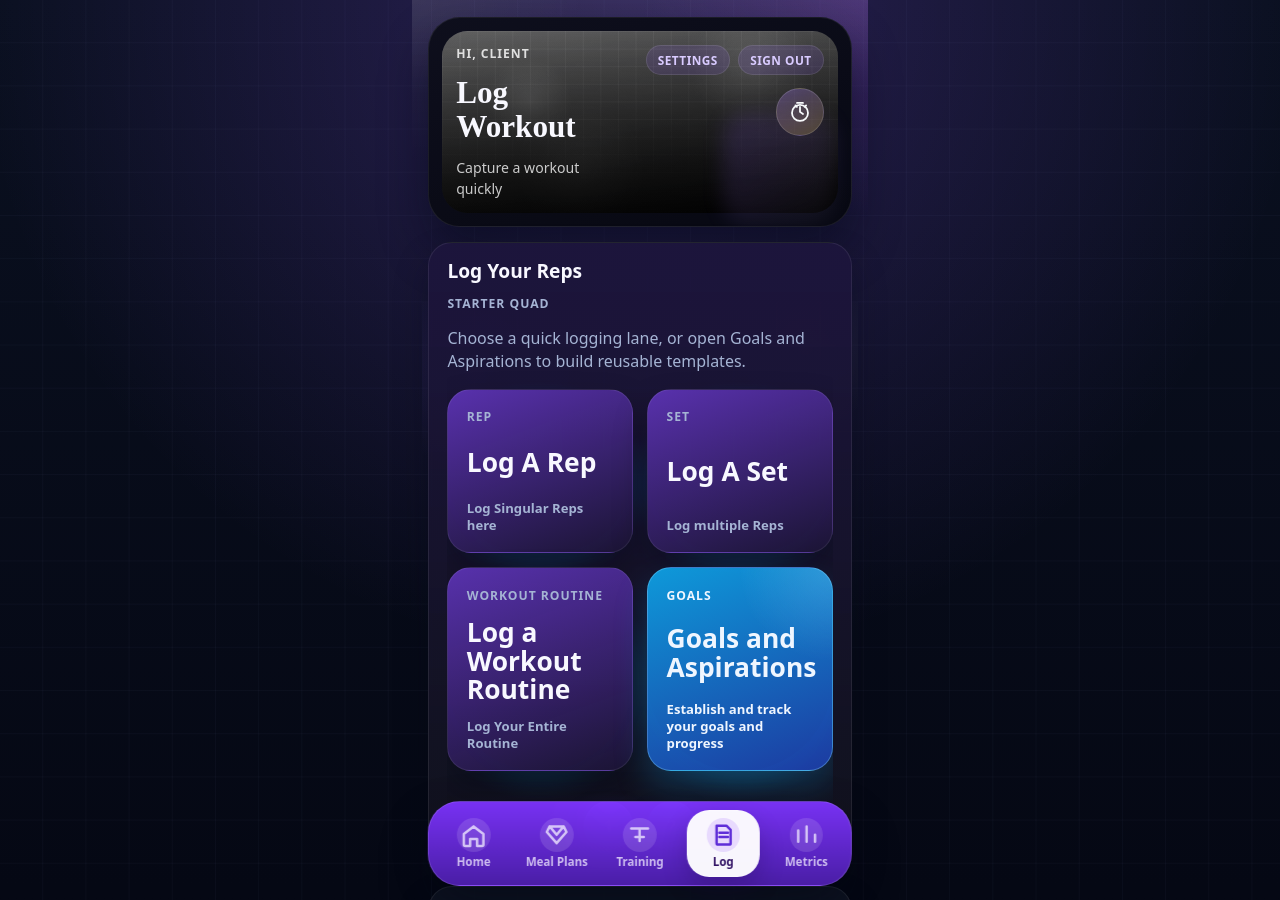
AddLogPage mobile experience › closes the active timer session without posting when cancelled or dismissed with Escape
Click the button named "Open workout timer": point(800, 112) left=776, top=88, right=824, bottom=136
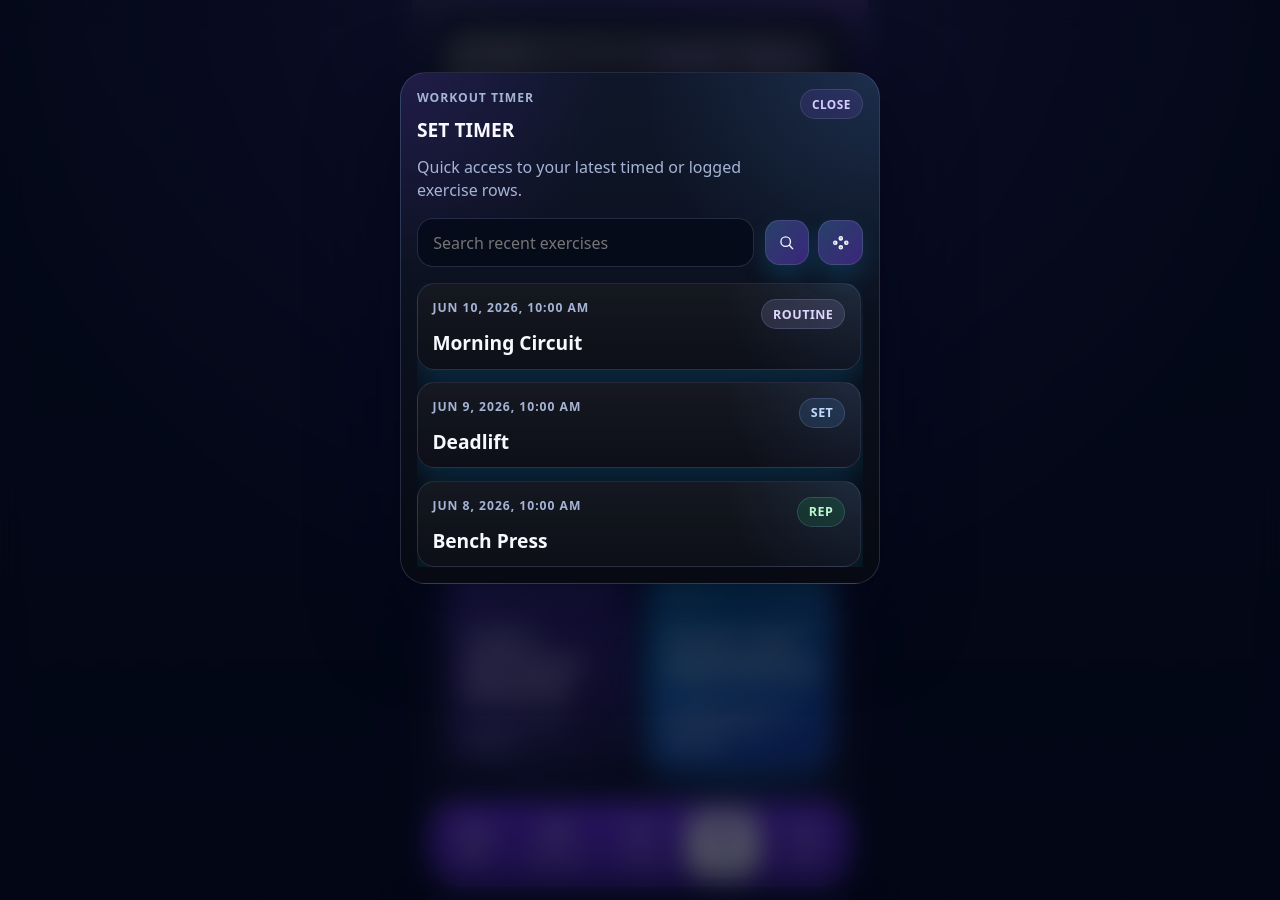
Click the button named "Open timer session for Bench Press": point(507, 505) left=417, top=481, right=861, bottom=567
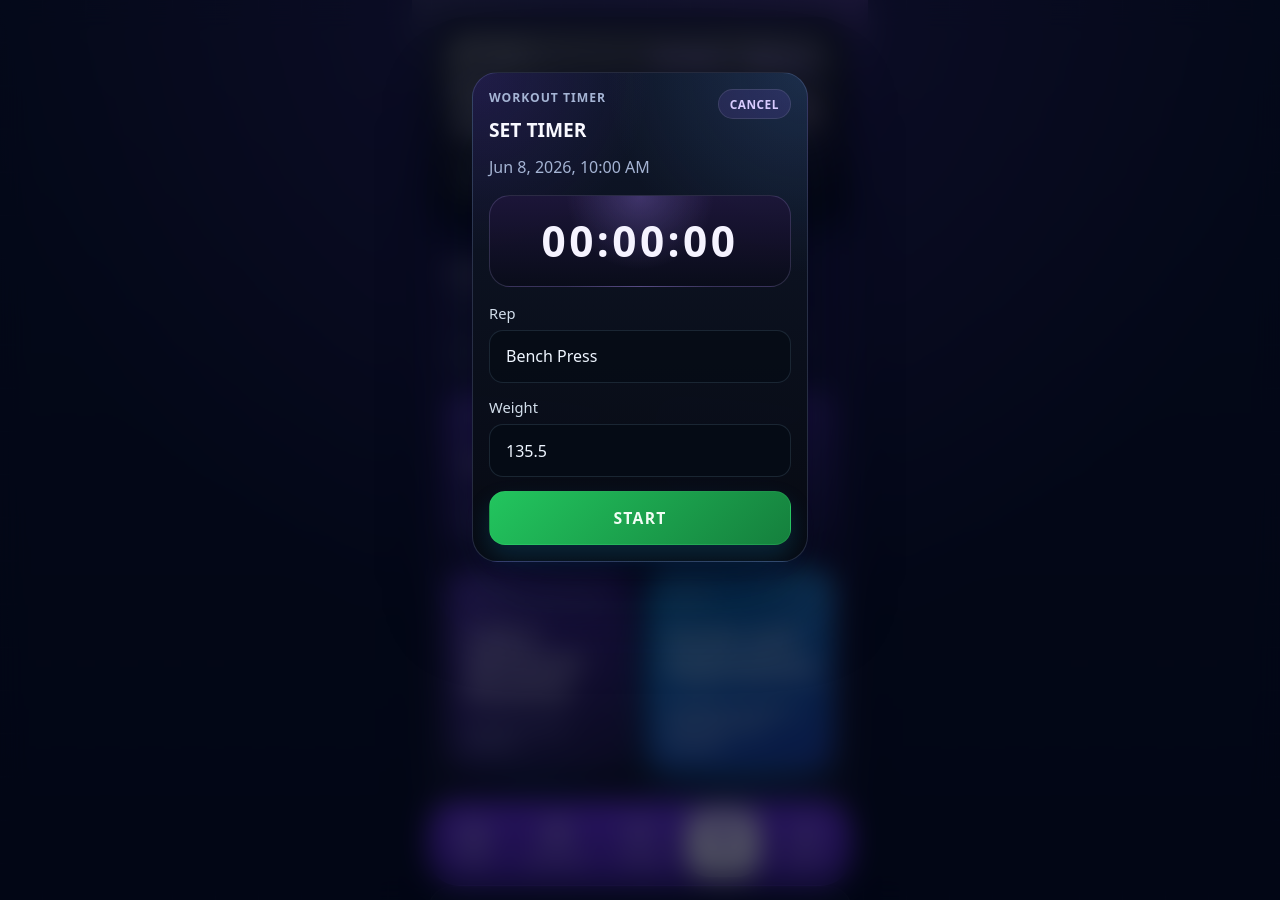
Click the button "Cancel": point(754, 104) left=718, top=89, right=791, bottom=119
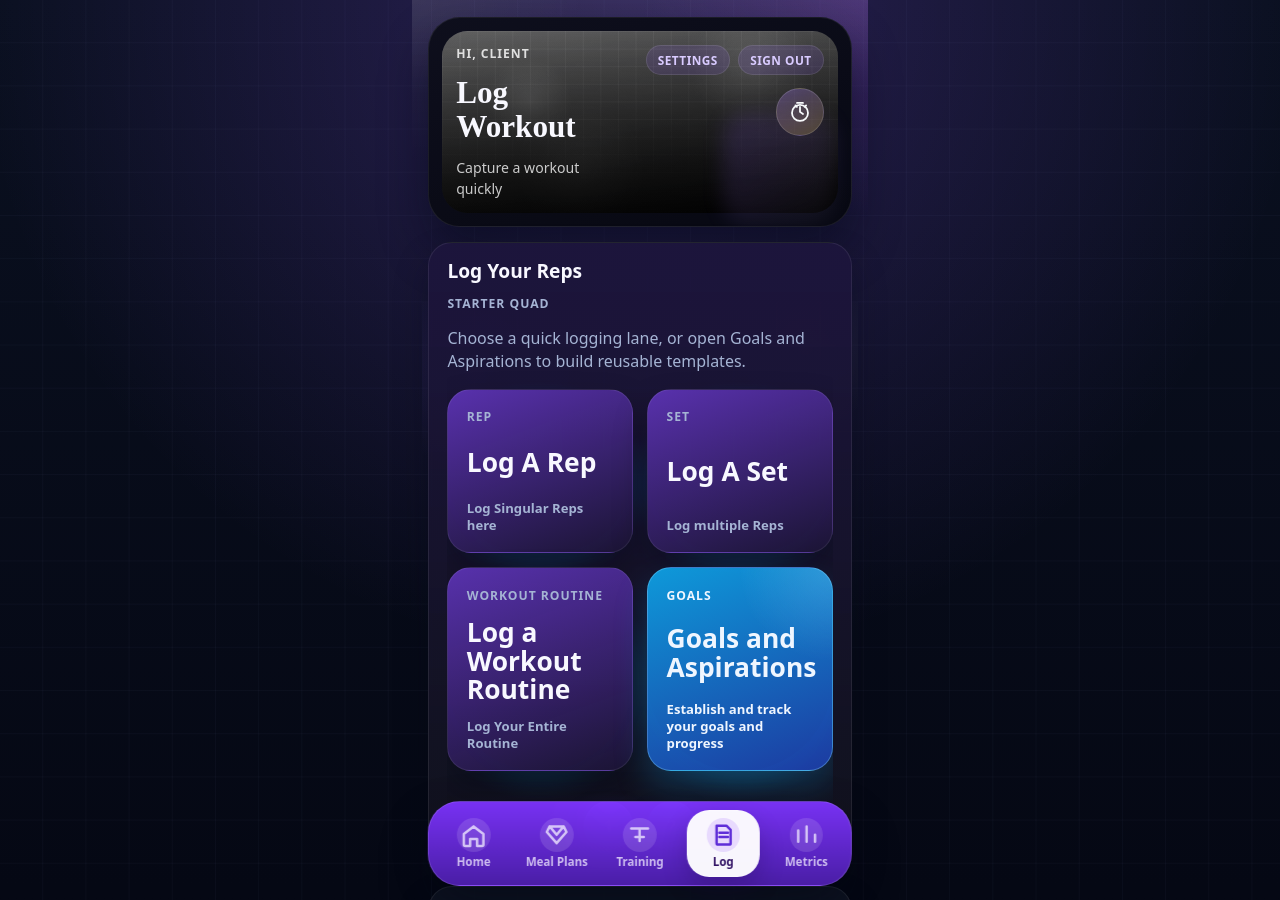
Check: the heading "SET TIMER" is gone
Click the button named "Open workout timer": point(800, 112) left=776, top=88, right=824, bottom=136
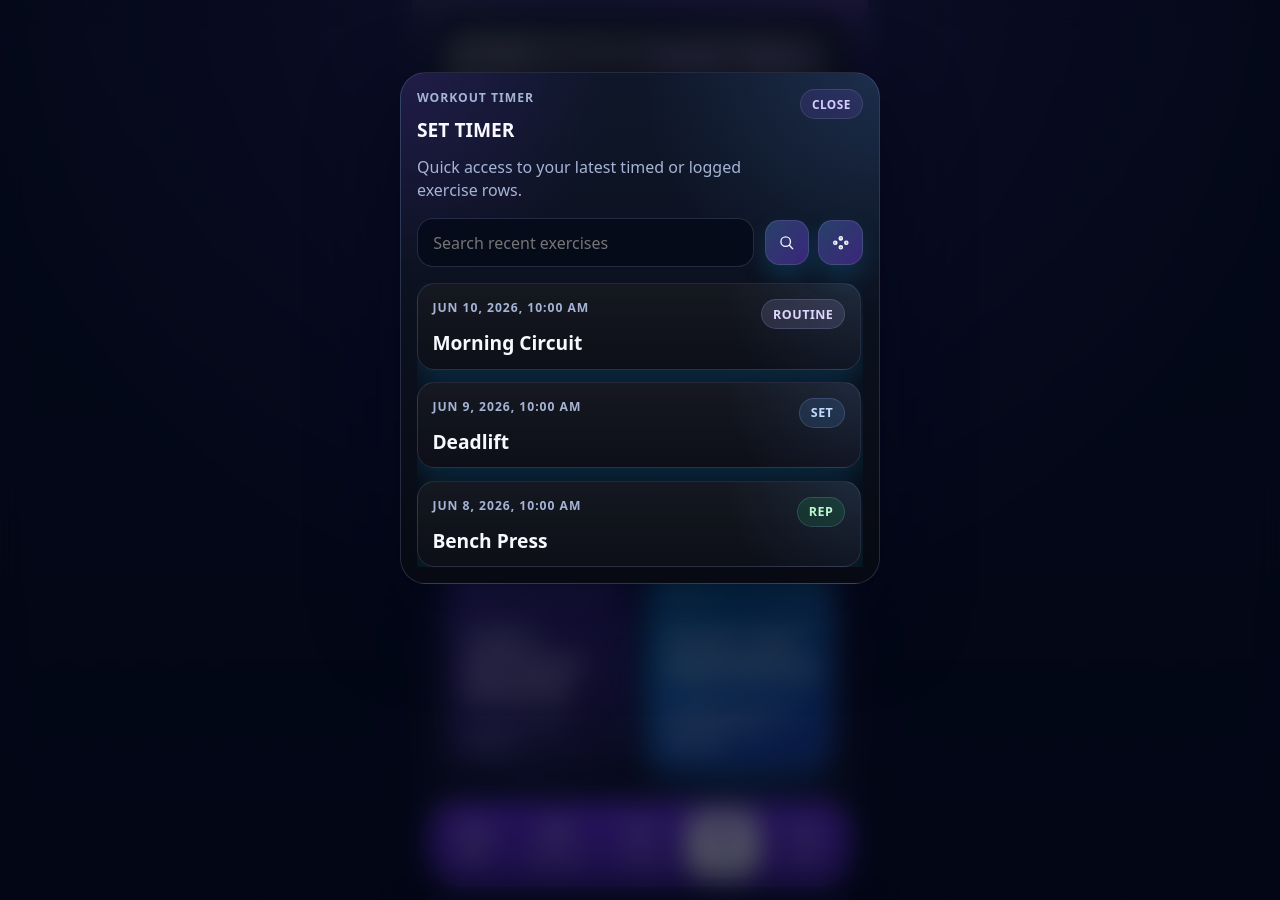
Click the button named "Open timer session for Bench Press": point(507, 505) left=417, top=481, right=861, bottom=567
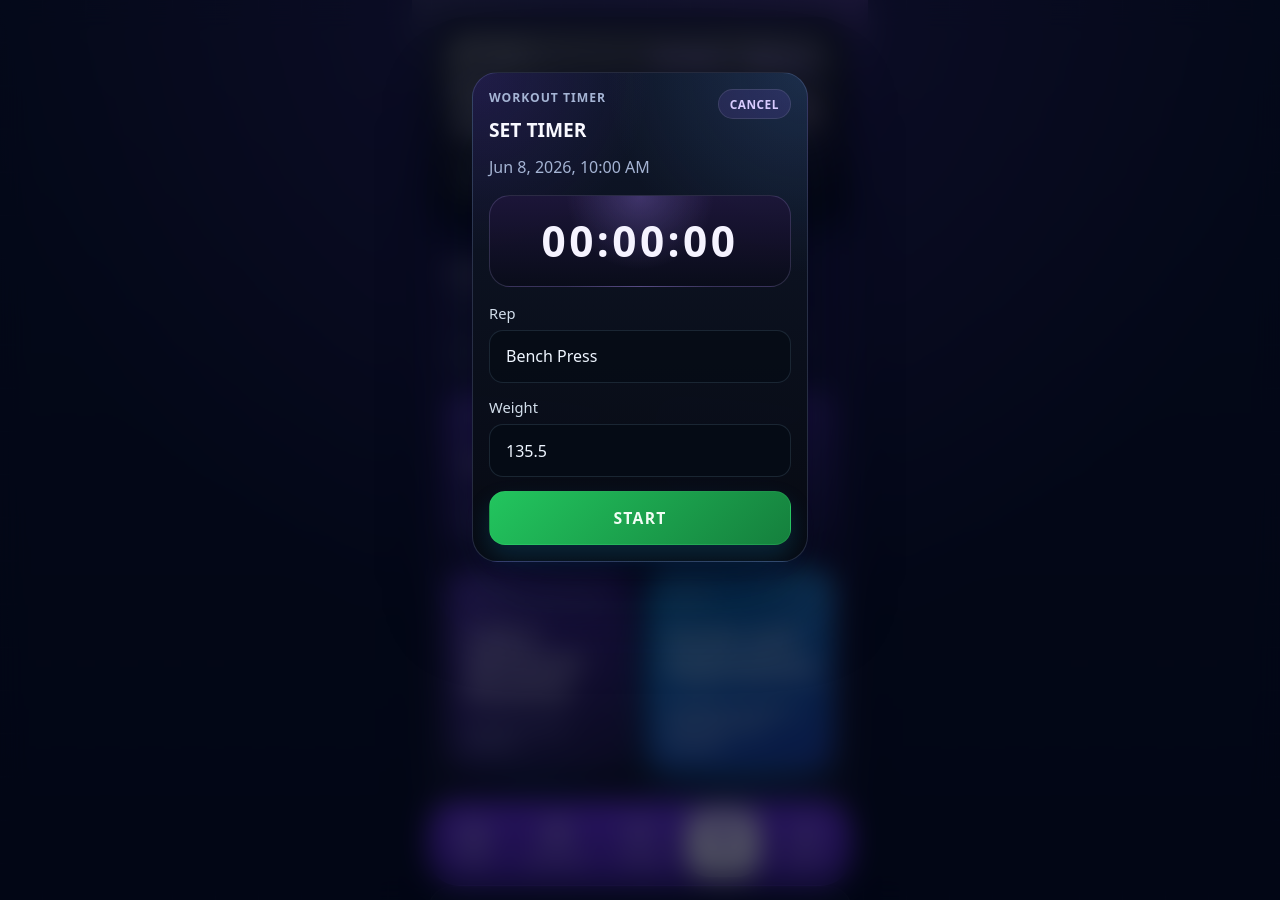
Press Escape
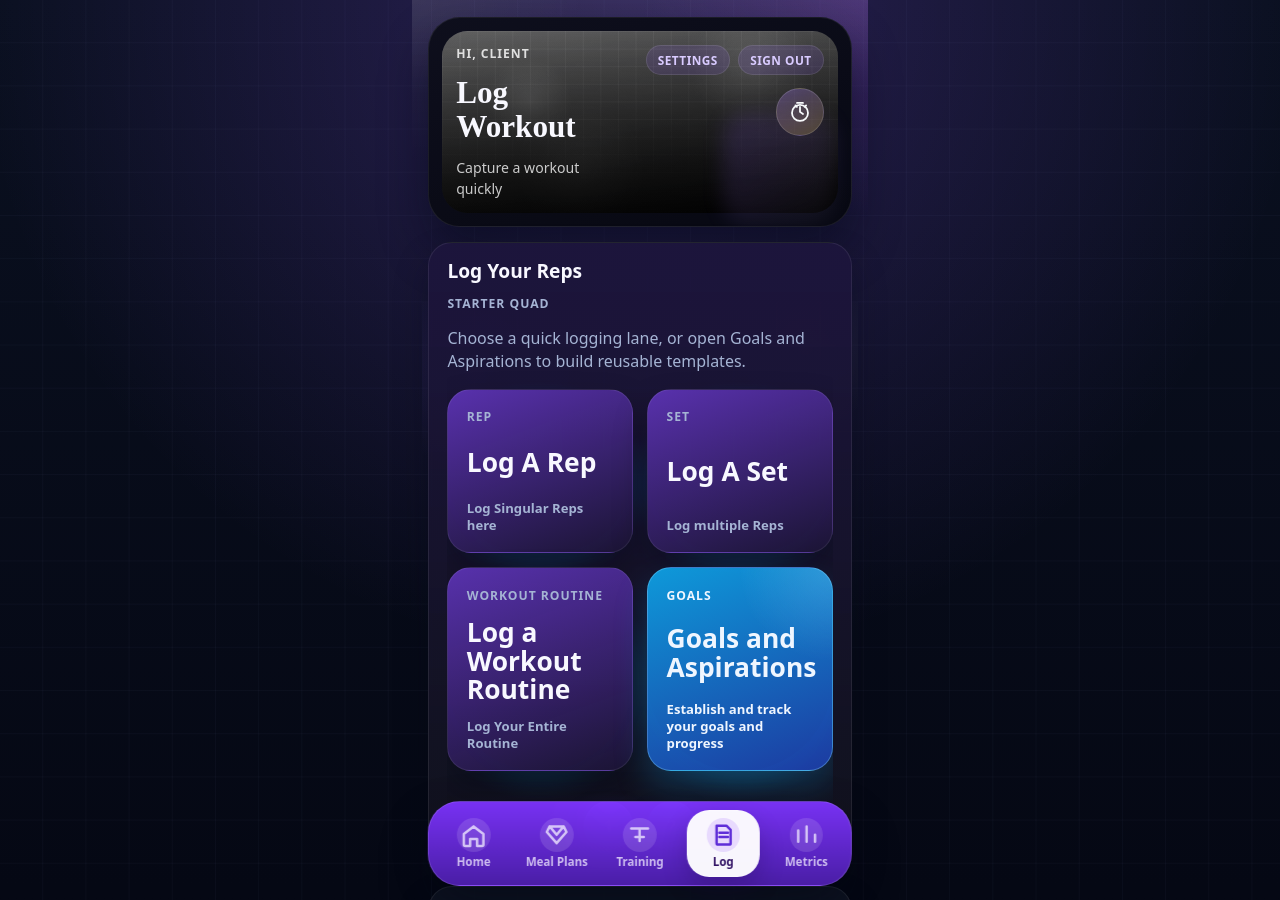
Check: the heading "SET TIMER" is gone
